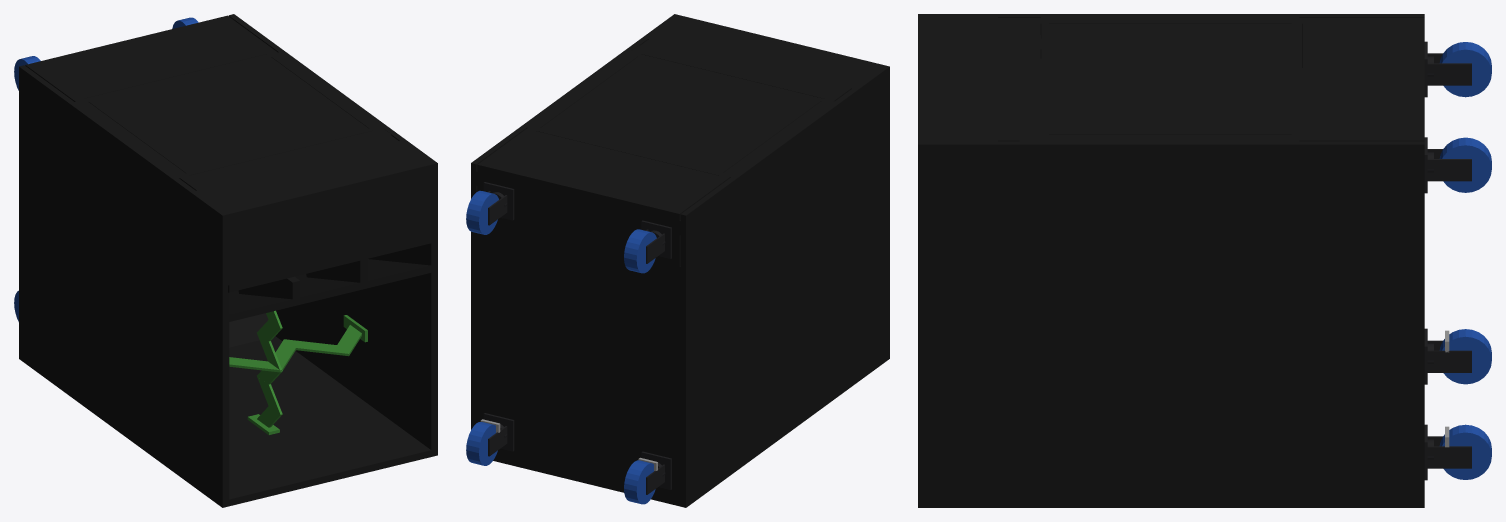
The model's file is flexy-folded-horn-hybrid.glb.
3 views of the same model, side by side, from view 1: azimuth 30°, elevation 25°; view 2: azimuth 150°, elevation 25°; view 3: azimuth 270°, elevation 25° (orthographic). The views are drawn at different scales.
Visible parts, largest first — view 1: flexy-folded-horn-hybrid, flexy-folded-horn-hybrid-brace-h3, flexy-folded-horn-hybrid-brace-h2; view 2: flexy-folded-horn-hybrid, flexy-folded-horn-hybrid-castor-3-wheel, flexy-folded-horn-hybrid-castor-4-wheel, flexy-folded-horn-hybrid-castor-1-wheel, flexy-folded-horn-hybrid-castor-2-wheel, flexy-folded-horn-hybrid-castor-4-plate, flexy-folded-horn-hybrid-castor-2-plate, flexy-folded-horn-hybrid-castor-3-plate; view 3: flexy-folded-horn-hybrid, flexy-folded-horn-hybrid-castor-3-wheel, flexy-folded-horn-hybrid-castor-4-wheel, flexy-folded-horn-hybrid-castor-2-wheel, flexy-folded-horn-hybrid-castor-1-wheel, flexy-folded-horn-hybrid-castor-3-fork-b, flexy-folded-horn-hybrid-castor-4-fork-b, flexy-folded-horn-hybrid-castor-2-fork-b, flexy-folded-horn-hybrid-castor-1-fork-b.
Part boxes in pixels (x1,y1,x2,y2): flexy-folded-horn-hybrid: (19,14,437,507); flexy-folded-horn-hybrid-brace-h3: (284,339,348,356); flexy-folded-horn-hybrid-brace-h2: (229,357,281,372); flexy-folded-horn-hybrid: (471,14,889,507); flexy-folded-horn-hybrid-castor-3-wheel: (624,229,656,273); flexy-folded-horn-hybrid-castor-4-wheel: (466,190,498,234); flexy-folded-horn-hybrid-castor-1-wheel: (624,460,655,504); flexy-folded-horn-hybrid-castor-2-wheel: (466,422,497,465); flexy-folded-horn-hybrid-castor-4-plate: (483,182,514,220); flexy-folded-horn-hybrid-castor-2-plate: (483,413,514,451); flexy-folded-horn-hybrid-castor-3-plate: (641,220,671,258); flexy-folded-horn-hybrid: (918,14,1424,507); flexy-folded-horn-hybrid-castor-3-wheel: (1440,42,1491,97); flexy-folded-horn-hybrid-castor-4-wheel: (1439,137,1491,192); flexy-folded-horn-hybrid-castor-2-wheel: (1439,424,1491,479); flexy-folded-horn-hybrid-castor-1-wheel: (1439,329,1491,384); flexy-folded-horn-hybrid-castor-3-fork-b: (1427,63,1471,85); flexy-folded-horn-hybrid-castor-4-fork-b: (1427,159,1471,181); flexy-folded-horn-hybrid-castor-2-fork-b: (1427,446,1471,468); flexy-folded-horn-hybrid-castor-1-fork-b: (1427,350,1471,372).
Size of the model in its own units: 0.588 by 0.763 by 1.09.
